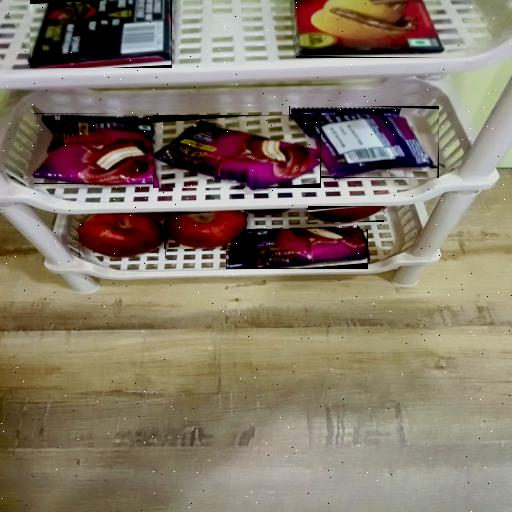Apple: (79, 214, 166, 258), (164, 212, 246, 249), (308, 206, 384, 222)
Choco Fills: (30, 0, 172, 68), (296, 0, 444, 58)
Choco Pie: (153, 115, 321, 188), (289, 106, 439, 178), (34, 113, 158, 184), (226, 229, 368, 269)
